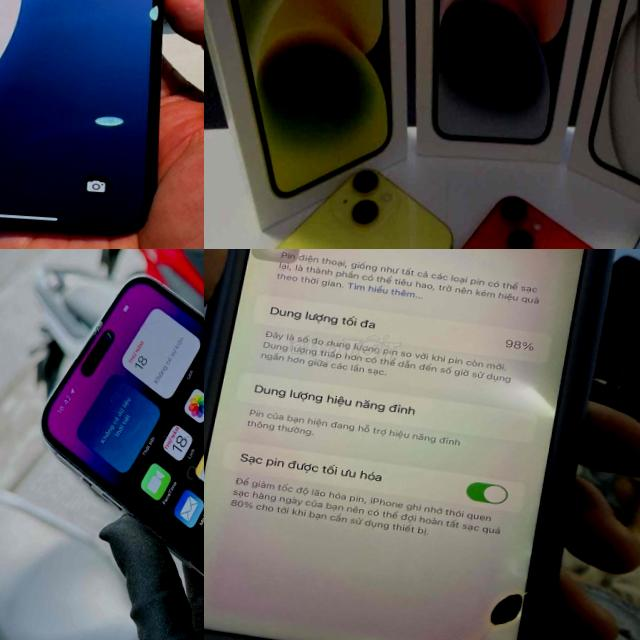physical_damage: (374, 563, 554, 640), (144, 408, 204, 452), (81, 311, 127, 352)
screen_defect: (476, 588, 540, 634), (133, 0, 168, 25), (90, 109, 128, 131), (411, 630, 477, 640)
